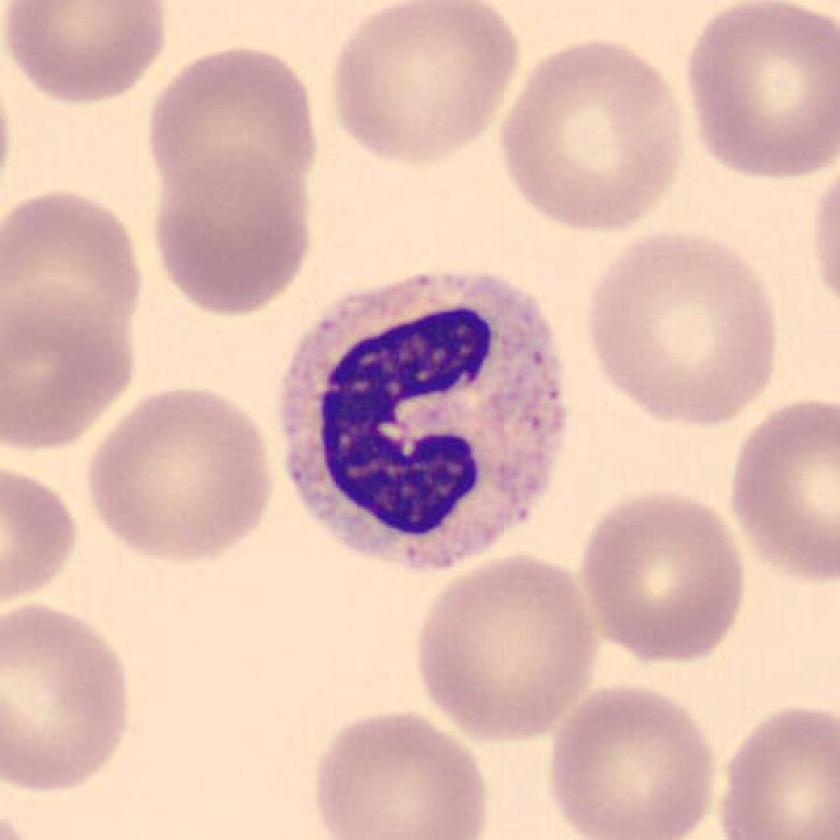neutrophil: (278, 277, 568, 576)
